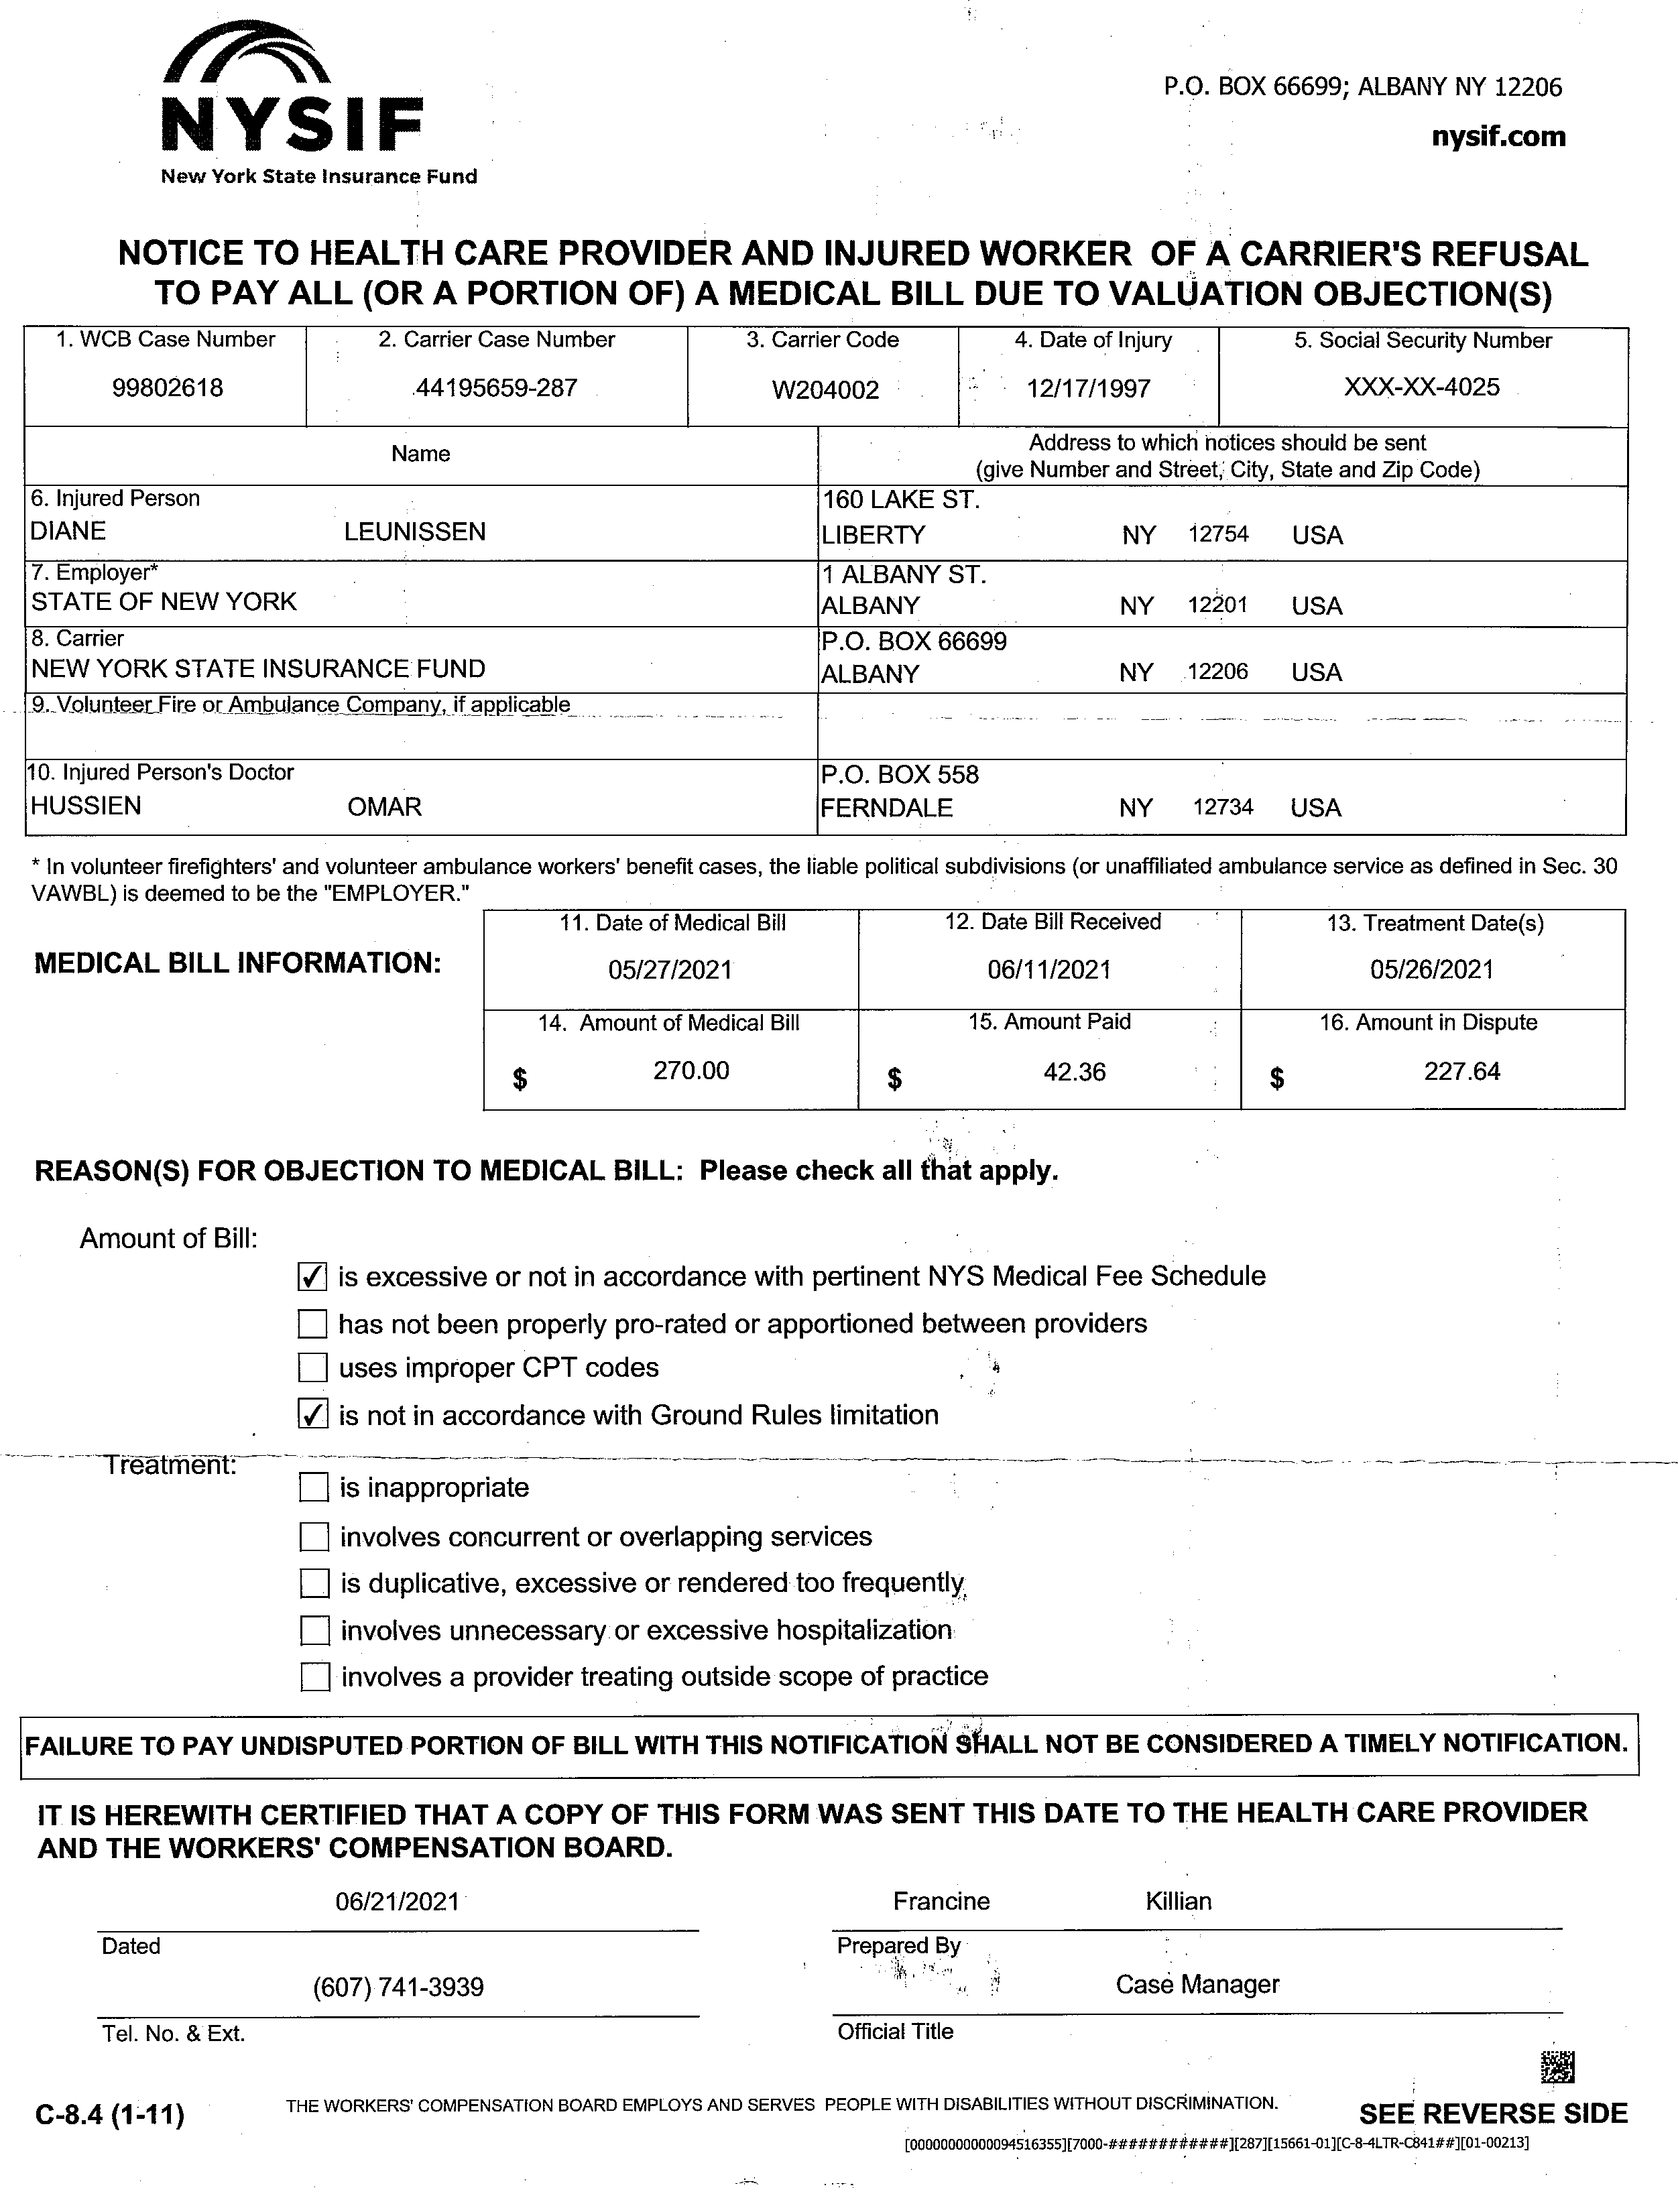table: (465, 894, 1639, 1133)
